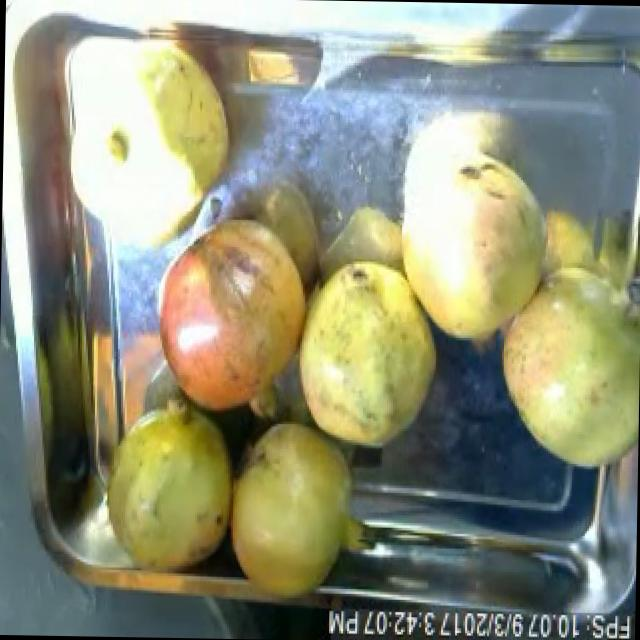fruit: (51, 20, 245, 266), (370, 115, 566, 356), (136, 196, 324, 437), (282, 237, 449, 468), (214, 400, 388, 614), (487, 254, 639, 487), (91, 388, 242, 579)
